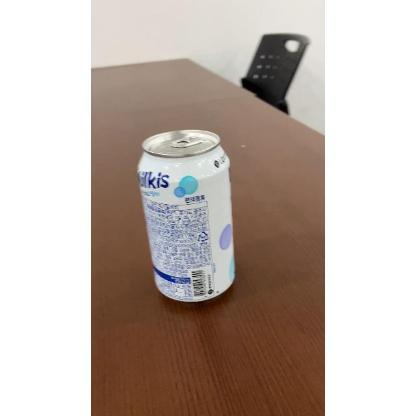Can: (136, 131, 238, 305)
